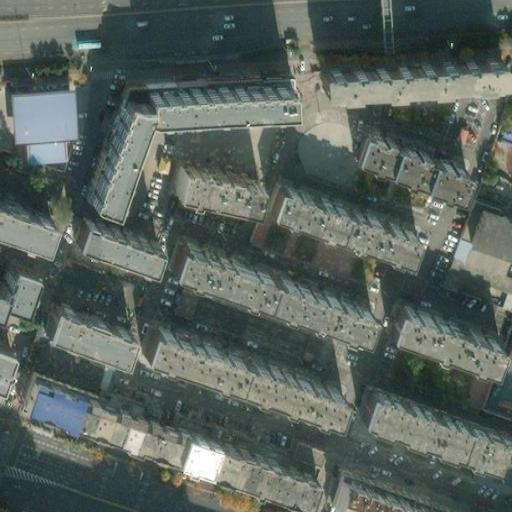building: (170, 240, 378, 344), (145, 322, 350, 422), (363, 385, 512, 467), (265, 178, 418, 256), (167, 427, 313, 503), (342, 121, 460, 194), (68, 391, 178, 456), (390, 303, 499, 367), (86, 105, 143, 210), (317, 61, 488, 95), (147, 89, 289, 127), (41, 298, 134, 354), (325, 471, 446, 512), (75, 216, 161, 270), (4, 89, 76, 141), (177, 162, 257, 203), (18, 371, 80, 420), (0, 206, 44, 251), (446, 242, 499, 275), (287, 437, 326, 470), (462, 372, 494, 411), (0, 264, 27, 308), (21, 139, 62, 167), (493, 132, 512, 171), (0, 342, 15, 390), (498, 70, 512, 104)
